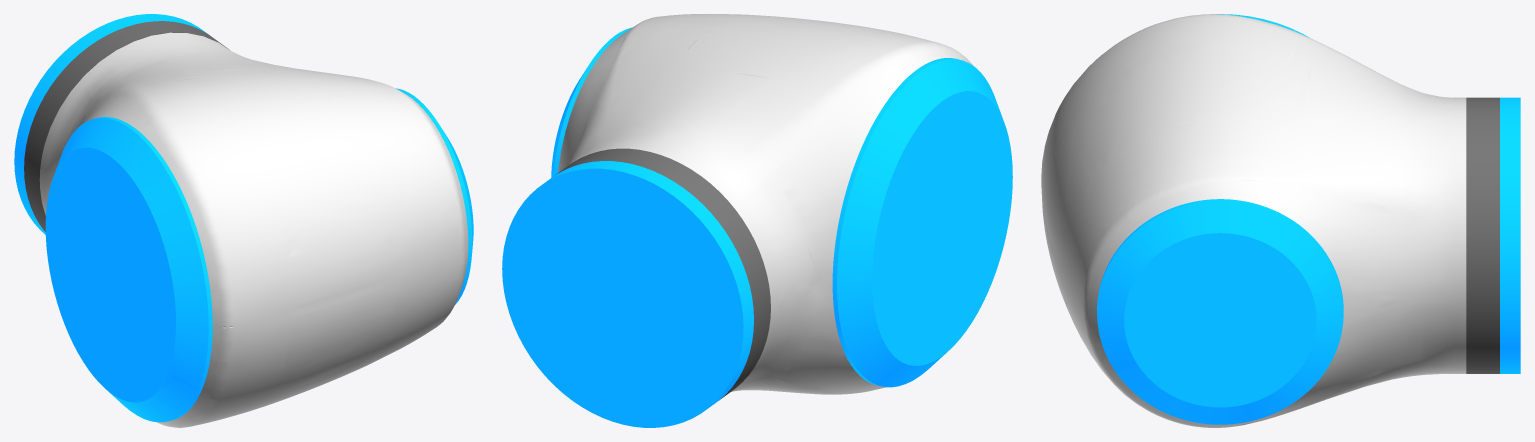
3 views of the same model, side by side, from view 1: azimuth 30°, elevation 25°; view 2: azimuth 150°, elevation 25°; view 3: azimuth 270°, elevation 25° (orthographic). The views are drawn at different scales.
Parts seen in each view (by area): view 1: Link4_body, Link4_led, Link4_ring; view 2: Link4_led, Link4_body, Link4_ring; view 3: Link4_body, Link4_led, Link4_ring.
Boxes of the visible parts, bbox=[...] form: Link4_body: bbox=[40, 32, 468, 427]; Link4_led: bbox=[14, 14, 473, 422]; Link4_ring: bbox=[24, 21, 229, 231]; Link4_led: bbox=[502, 27, 1012, 427]; Link4_body: bbox=[558, 14, 973, 394]; Link4_ring: bbox=[556, 148, 770, 400]; Link4_body: bbox=[1041, 14, 1466, 427]; Link4_led: bbox=[1097, 14, 1520, 424]; Link4_ring: bbox=[1466, 97, 1499, 373].
Bounding box in the file's own units: 0.159 × 0.1943 × 0.1464.
